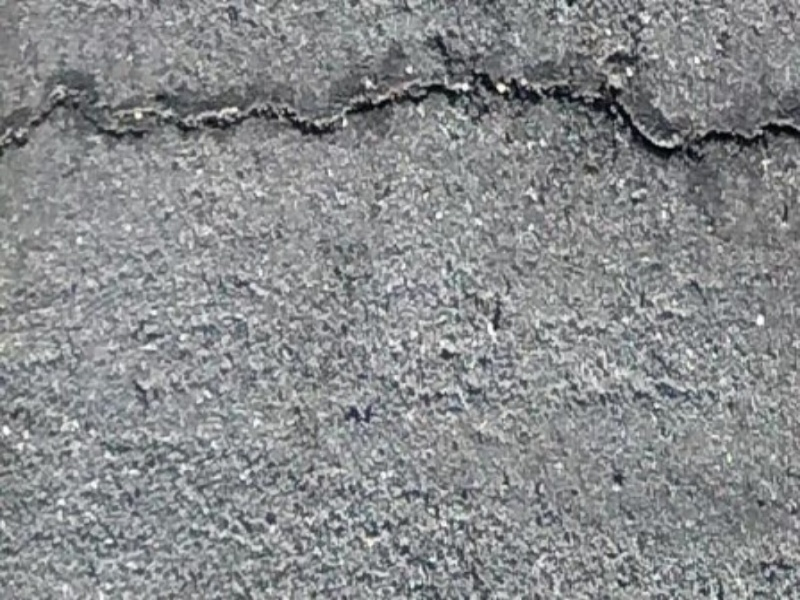crack: (10, 54, 794, 179)
